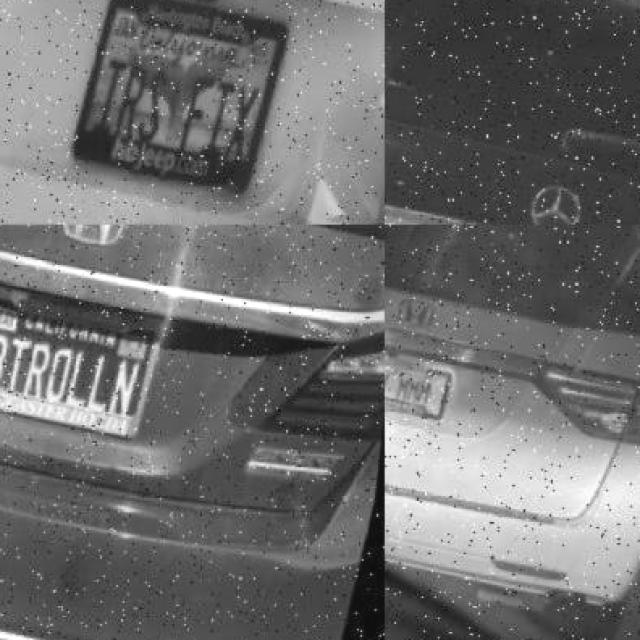licenseplate: (77, 0, 294, 187), (0, 279, 171, 433), (374, 348, 460, 413)
